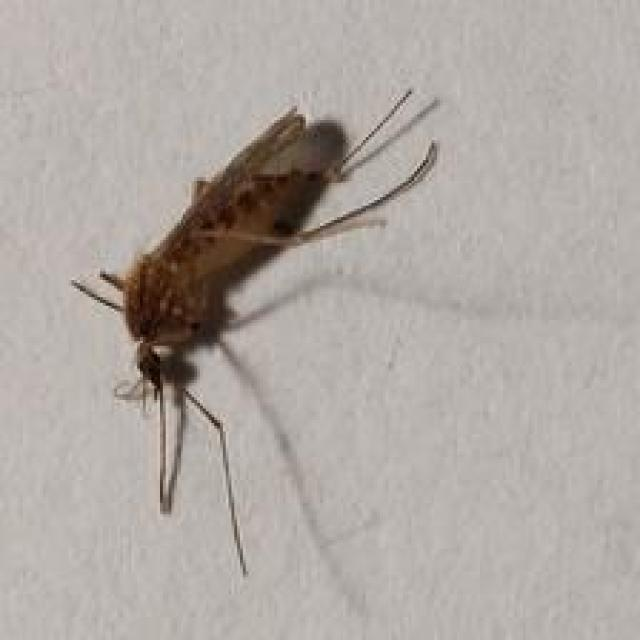Culex: (70, 84, 441, 579)
